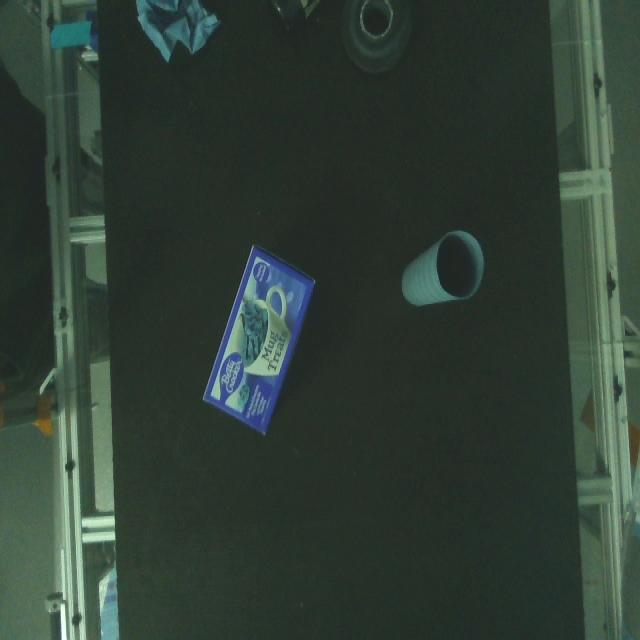non-paper: (338, 0, 426, 83), (260, 0, 334, 40)
paper: (199, 238, 321, 441), (399, 228, 486, 311), (129, 0, 226, 71)
